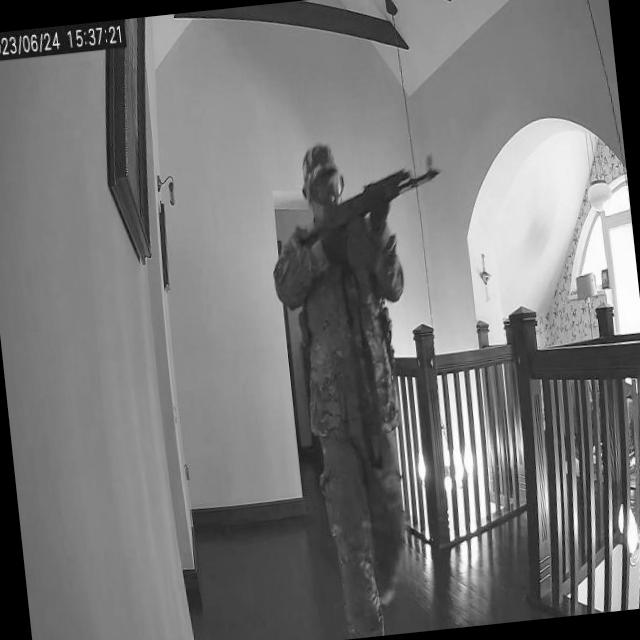gun: (302, 156, 448, 256)
person with a gun: (259, 127, 493, 640)
